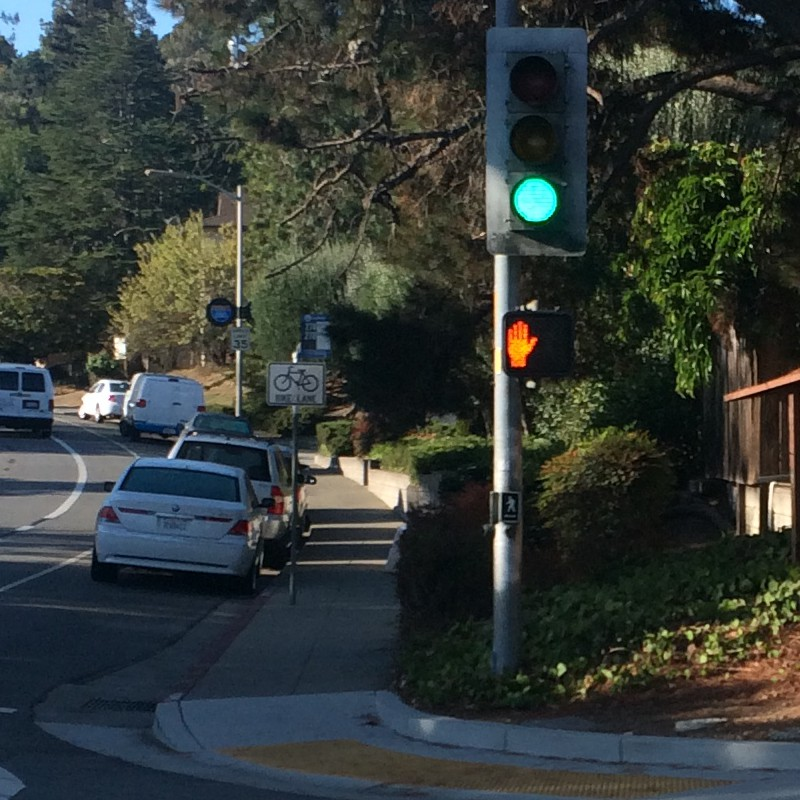stop: (499, 311, 567, 377)
